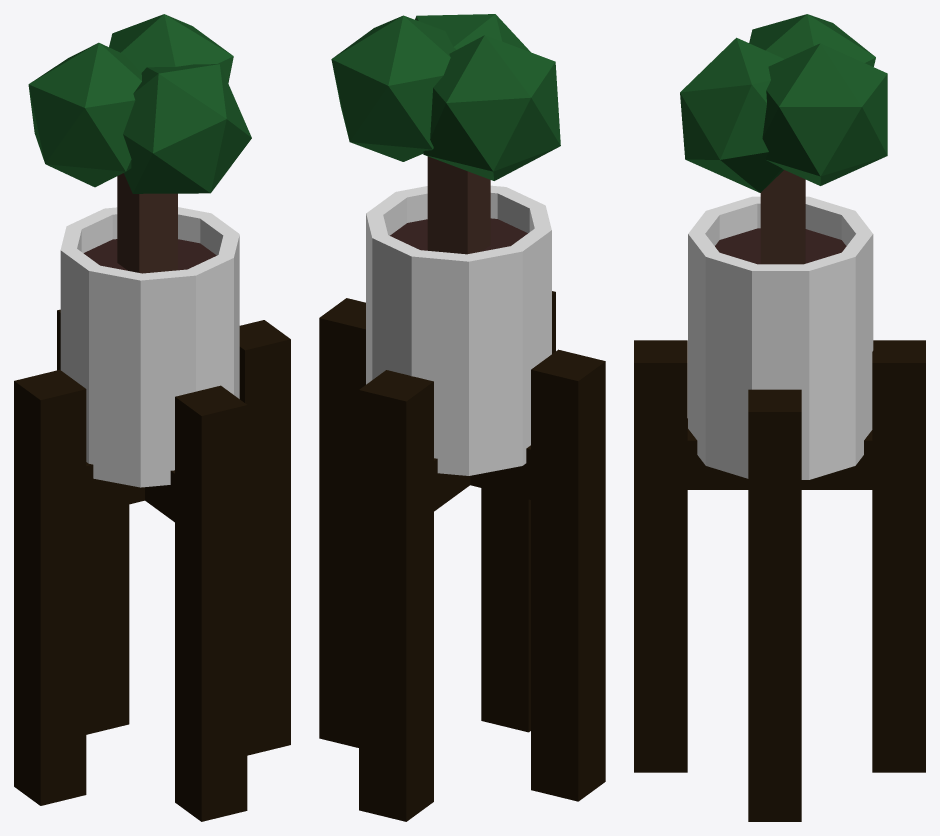
File: Plantita.fbx
3 renders of one model, left to right at view 1: azimuth 30°, elevation 25°; view 2: azimuth 150°, elevation 25°; view 3: azimuth 270°, elevation 25°, orthographic. The views are drawn at different scales.
Visible parts, largest first — view 1: Hojas_3; view 2: Hojas_3; view 3: Hojas_3.
Part boxes in pixels (x1,y1,x2,y2): Hojas_3: (14, 14, 290, 821); Hojas_3: (319, 14, 605, 821); Hojas_3: (634, 14, 925, 821).
Size of the model in its own units: 0.4087 by 0.4087 by 1.13.
